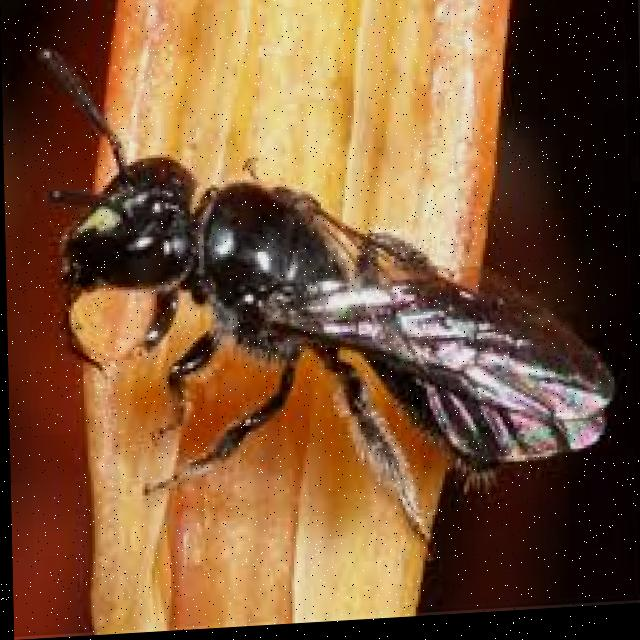Braunsapis: (27, 12, 625, 580)
